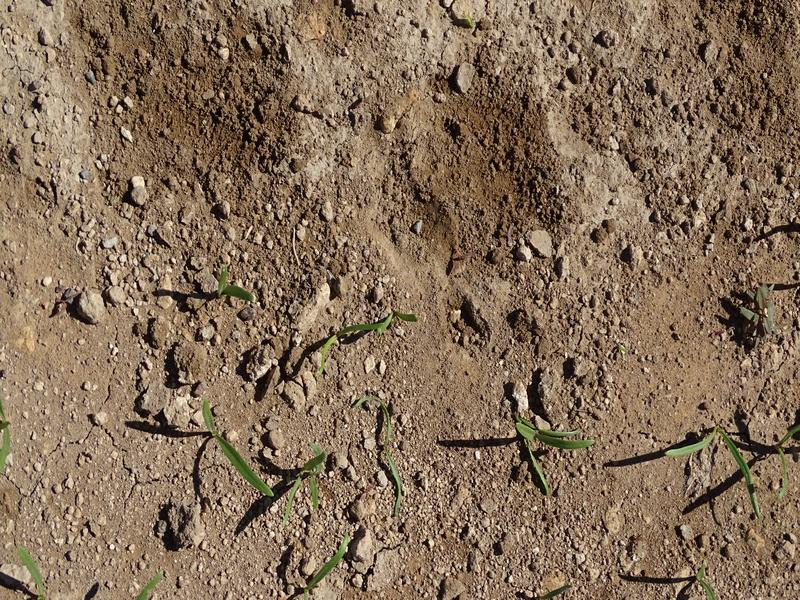Espinaca: (674, 416, 788, 499), (503, 409, 602, 494), (193, 410, 280, 502), (354, 389, 417, 516), (311, 298, 417, 368), (284, 441, 335, 520), (735, 275, 778, 347), (307, 532, 359, 590)
